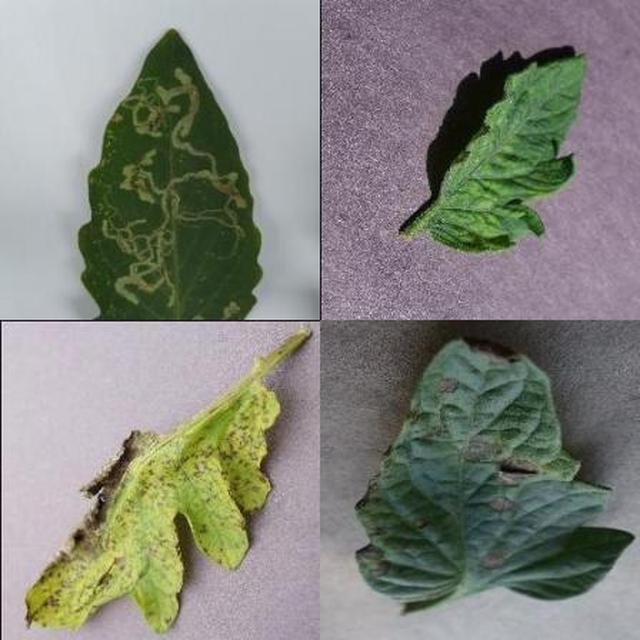Leaf Miner: (217, 218, 640, 640)
